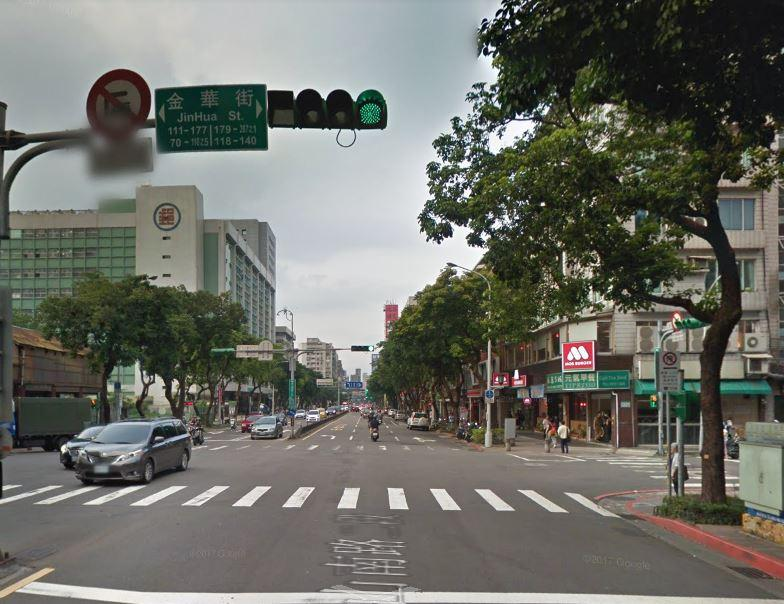green_traffic_light: (269, 86, 387, 133)
